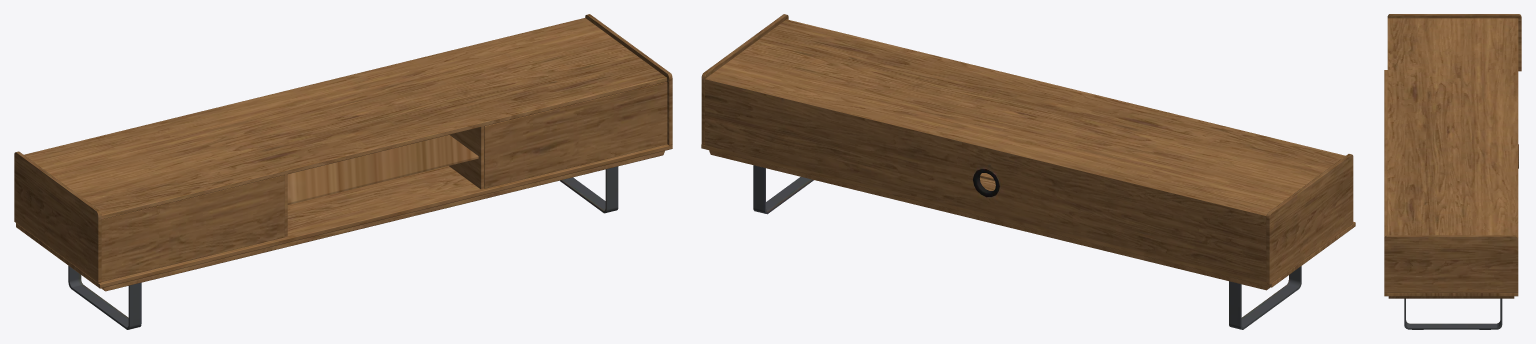
Rendered from abo-B072ZNBRR6.glb.
3 renders of one model, left to right at view 1: azimuth 30°, elevation 25°; view 2: azimuth 150°, elevation 25°; view 3: azimuth 270°, elevation 25°, orthographic. The views are drawn at different scales.
Size of the model in its own units: 1.8 by 0.415 by 0.467.
1 material, 1 textured.
